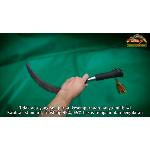Celurit: (20, 54, 128, 99)
